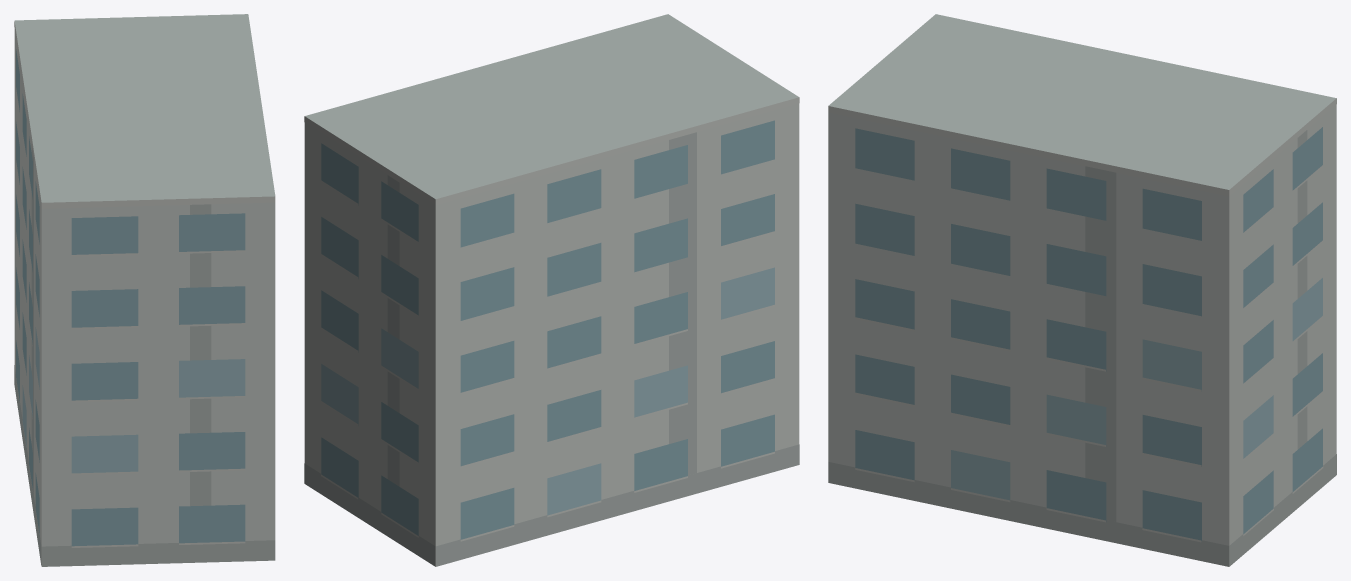
Rendered from survey-upis-33037913.glb.
The picture shows the model from 3 angles, left to right: view 1: azimuth 30°, elevation 25°; view 2: azimuth 150°, elevation 25°; view 3: azimuth 270°, elevation 25°; orthographic projection. The views are drawn at different scales.
Visible parts, largest first — view 1: survey-upis-33037913.tmp; view 2: survey-upis-33037913.tmp; view 3: survey-upis-33037913.tmp.
Part boxes in pixels (left/top/right/bottom): survey-upis-33037913.tmp: left=14, top=14, right=275, bottom=566; survey-upis-33037913.tmp: left=304, top=14, right=799, bottom=566; survey-upis-33037913.tmp: left=828, top=14, right=1336, bottom=566.
Bounding box in the file's own units: 14.53 × 14.5 × 17.74.
